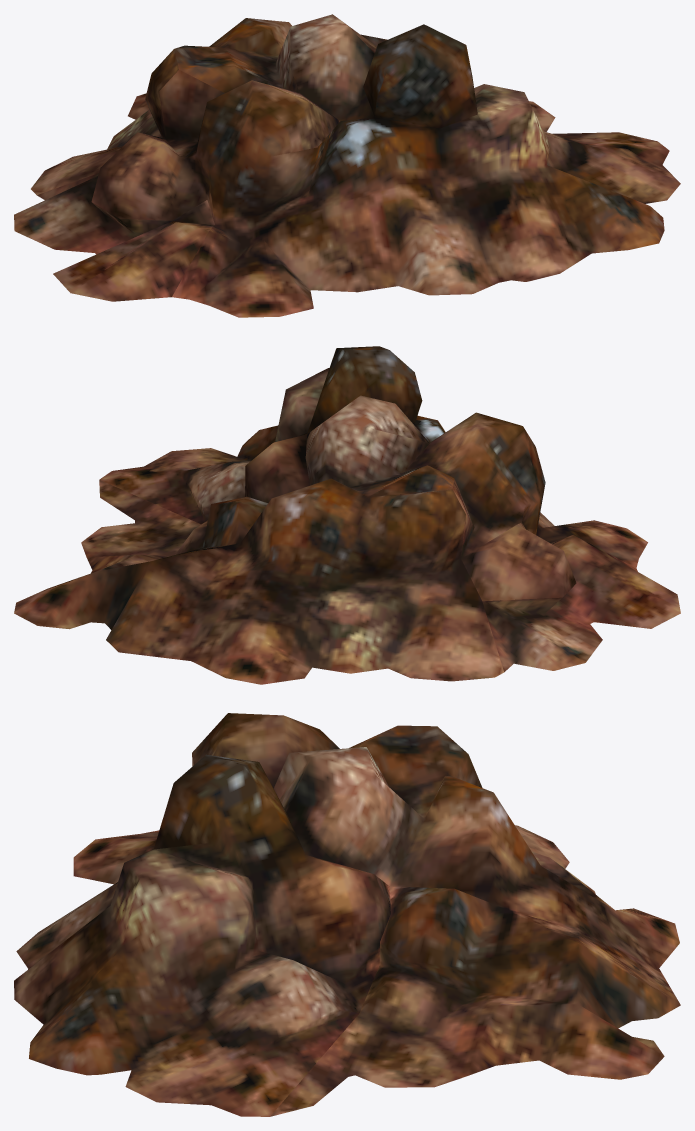
The model's file is rotten_apple_pile.dae.
The picture shows the model from 3 angles, top to bottom: view 1: azimuth 30°, elevation 25°; view 2: azimuth 150°, elevation 25°; view 3: azimuth 270°, elevation 25°; orthographic projection. The views are drawn at different scales.
Parts seen in each view (by area): view 1: rotten_apple_pile3; view 2: rotten_apple_pile3; view 3: rotten_apple_pile3.
Boxes of the visible parts, x1,y1,x2,y2 form: rotten_apple_pile3: [14, 14, 680, 317]; rotten_apple_pile3: [14, 346, 680, 684]; rotten_apple_pile3: [14, 713, 680, 1116].
Bounding box in the file's own units: 0.5621 × 0.1671 × 0.474.
